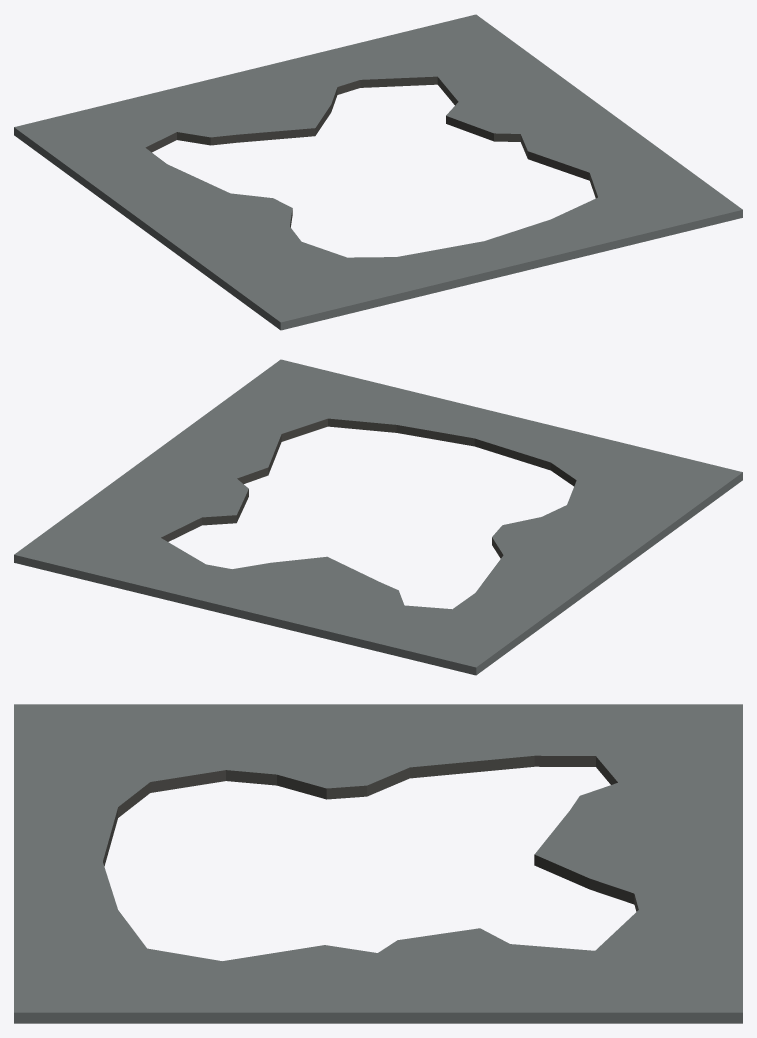
Rendered from SM_Floor_Broken_3x3_C.fbx.
3 views of the same model, one above another, from view 1: azimuth 30°, elevation 25°; view 2: azimuth 150°, elevation 25°; view 3: azimuth 270°, elevation 25° (orthographic). The views are drawn at different scales.
Parts seen in each view (by area): view 1: SM_Floor_Broken_3x3_C; view 2: SM_Floor_Broken_3x3_C; view 3: SM_Floor_Broken_3x3_C.
Part boxes in pixels (left/top/right/bottom): SM_Floor_Broken_3x3_C: left=14, top=14, right=742, bottom=330; SM_Floor_Broken_3x3_C: left=14, top=359, right=742, bottom=675; SM_Floor_Broken_3x3_C: left=14, top=704, right=742, bottom=1023.
Bounding box in the file's own units: 300 × 5 × 300.
